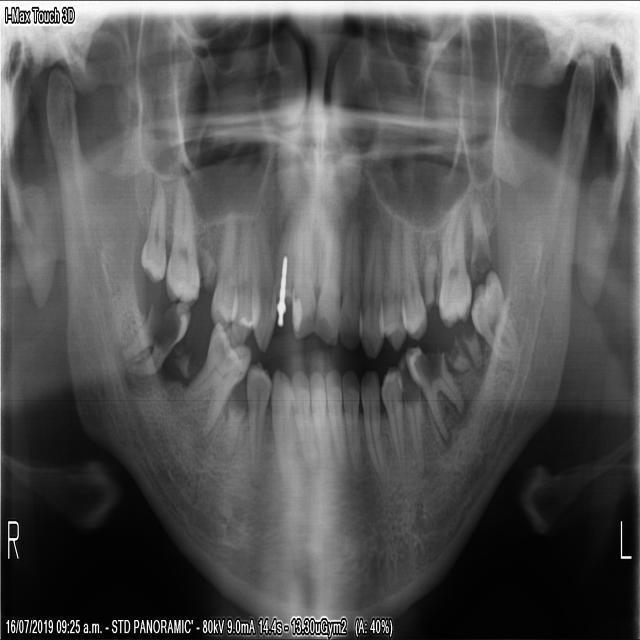LCD: (358, 362, 385, 486)
LCU: (356, 211, 384, 363)
LID: (322, 361, 347, 476), (340, 364, 362, 472)
LIU: (312, 216, 341, 349), (336, 217, 362, 353)
LMD: (403, 340, 466, 449), (467, 262, 520, 367), (447, 322, 484, 385)
LMU: (434, 187, 470, 334), (466, 183, 492, 281), (421, 224, 439, 314)
LPMD: (394, 349, 425, 476), (377, 362, 408, 484)
LPMU: (375, 211, 407, 356), (398, 218, 426, 342)
RCD: (268, 358, 301, 495)
RCU: (249, 209, 275, 358)
RID: (287, 365, 318, 478), (307, 364, 333, 468)
RIU: (288, 211, 316, 344), (268, 214, 292, 333)
RMD: (176, 317, 251, 440), (118, 296, 191, 378)
RMU: (162, 176, 200, 309), (135, 174, 168, 286)
RPMD: (242, 358, 272, 487), (220, 392, 244, 464)
RPMU: (227, 207, 260, 350), (206, 211, 237, 333)
